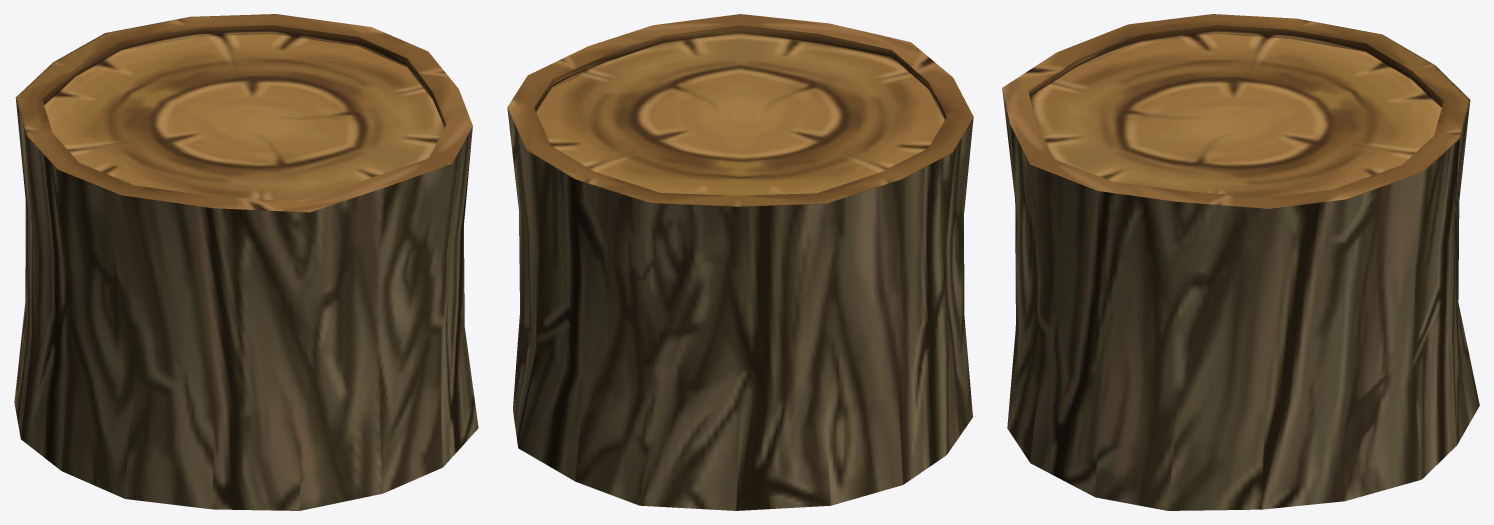
Rendered from Stump02.fbx.
The picture shows the model from 3 angles, left to right: view 1: azimuth 30°, elevation 25°; view 2: azimuth 150°, elevation 25°; view 3: azimuth 270°, elevation 25°; orthographic projection.
Visible parts, largest first — view 1: Stump02_LOD0; view 2: Stump02_LOD0; view 3: Stump02_LOD0.
Boxes of the visible parts, x1,y1,x2,y2 form: Stump02_LOD0: [14, 14, 478, 510]; Stump02_LOD0: [507, 14, 973, 510]; Stump02_LOD0: [1002, 14, 1479, 510].
Size of what is drawn, in the model's own units: 43.03 by 31.51 by 44.46.
